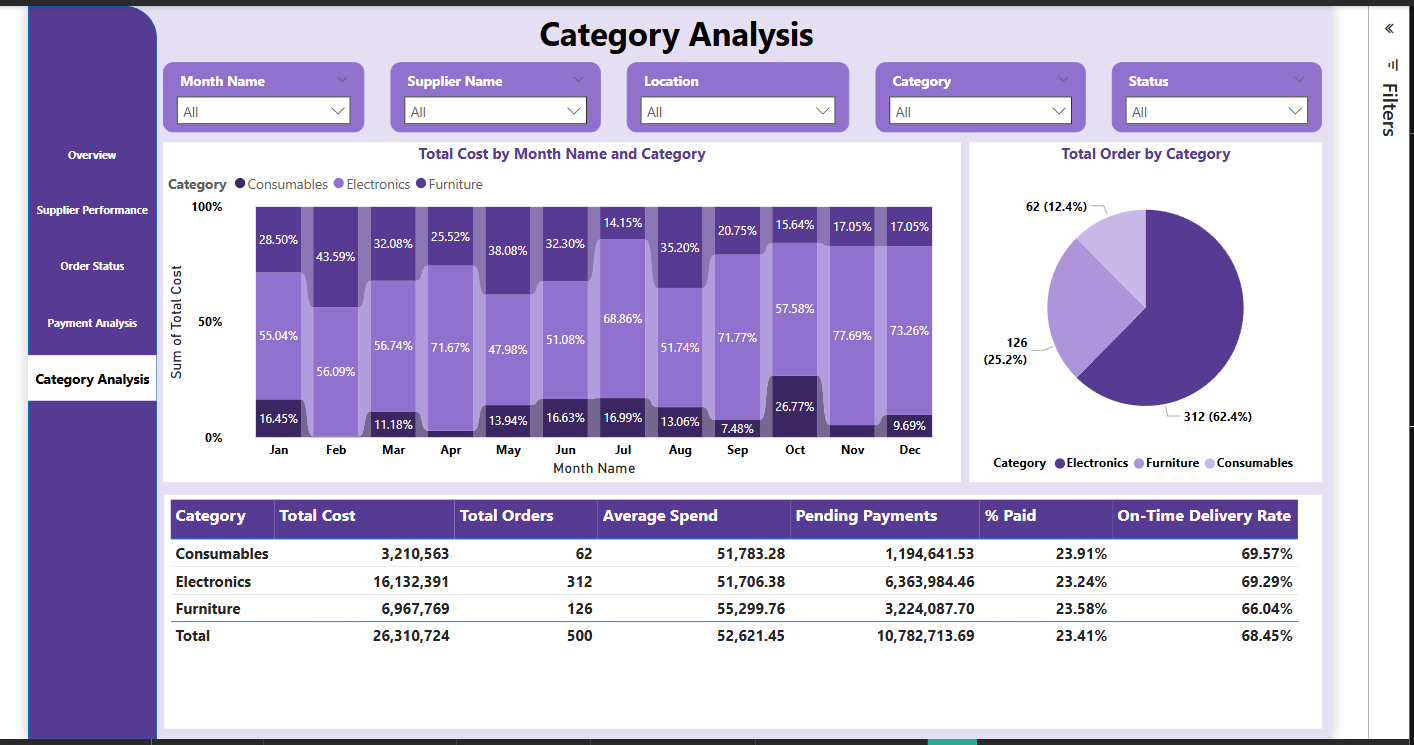

The dashboard page shown, as its layout file describes it:
{"tool":"powerbi","page":{"name":"Category Analysis ","canvas":[1280,720],"ordinal":4},"visuals":[{"type":"textbox","box":[399.6,0,481.9,54.8],"z":0},{"type":"slicer","fields":{"Values":["Calendar Table.Month Name"]},"box":[132.7,55.5,197.9,68.8],"z":1000},{"type":"slicer","fields":{"Values":["Data.Supplier Name"]},"box":[356.2,55.5,206.3,68.8],"z":2000},{"type":"slicer","fields":{"Values":["Data.Location"]},"box":[588.1,55.5,218.4,68.8],"z":3000},{"type":"slicer","fields":{"Values":["Data.Status"]},"box":[1064.1,55.5,206.3,68.8],"z":4000},{"type":"slicer","fields":{"Values":["Data.Category"]},"box":[832.1,55.5,206.3,68.8],"z":5000},{"type":"shape","box":[0,0,126.7,720.2],"z":6000},{"type":"pieChart","title":"Total Order by Category","fields":{"Category":["Data.Category"],"Y":["Measures Calculation.Total Orders"]},"box":[923.9,133.4,346.5,333.4],"z":7000},{"type":"hundredPercentStackedColumnChart","title":" Total Cost by Month Name and Category","fields":{"Category":["Calendar Table.Month Name"],"Series":["Data.Category"],"Y":["Sum(Data.Total Cost)"]},"box":[132.7,134.2,783.4,333.3],"z":8000},{"type":"tableEx","fields":{"Values":["Data.Category","Measures Calculation.Total Spend","Measures Calculation.Total Orders","Measures Calculation.Average Spend","Measures Calculation.Pending Payments","Measures Calculation.% Paid","Measures Calculation.On-Time Delivery Rate"]},"box":[133.4,479.8,1137,229.3],"z":9000},{"type":"pageNavigator","box":[0,123.2,126.1,269.3],"z":10000}]}

Visuals, with their boxes on the page's 1280x720 design canvas (x1, y1, x2, y2). These are canvas units, not pixel positions in the 1414x745 screenshot, which may show the page scaled, cropped or inside an application window:
textbox: x1=400, y1=0, x2=882, y2=55
slicer - Calendar Table.Month Name: x1=133, y1=56, x2=331, y2=124
slicer - Data.Supplier Name: x1=356, y1=56, x2=562, y2=124
slicer - Data.Location: x1=588, y1=56, x2=806, y2=124
slicer - Data.Status: x1=1064, y1=56, x2=1270, y2=124
slicer - Data.Category: x1=832, y1=56, x2=1038, y2=124
shape: x1=0, y1=0, x2=127, y2=720
"Total Order by Category" pieChart: x1=924, y1=133, x2=1270, y2=467
" Total Cost by Month Name and Category" hundredPercentStackedColumnChart: x1=133, y1=134, x2=916, y2=468
tableEx - Data.Category x Measures Calculation.Total Spend: x1=133, y1=480, x2=1270, y2=709
pageNavigator: x1=0, y1=123, x2=126, y2=392
